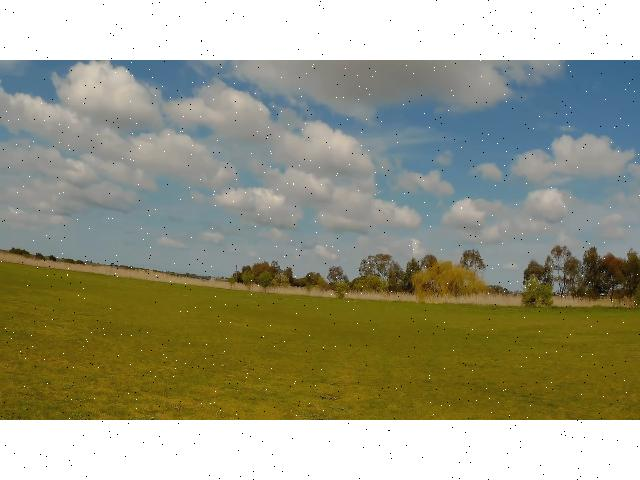Anti-Drone: (363, 182, 391, 204)
